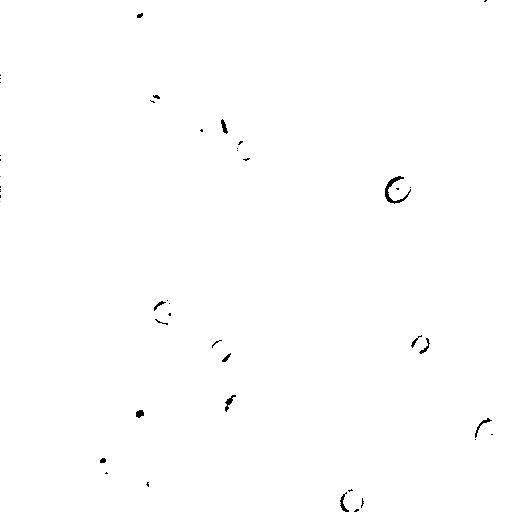micro-algae: (283, 87, 418, 215), (347, 1, 423, 41), (117, 393, 161, 433), (83, 448, 125, 487), (472, 413, 506, 451), (135, 461, 167, 500), (225, 106, 259, 141), (191, 112, 222, 150), (323, 0, 365, 27), (120, 1, 153, 31), (381, 175, 413, 205), (223, 391, 250, 423), (152, 297, 182, 325), (233, 136, 261, 163), (407, 332, 435, 357), (339, 487, 366, 512), (209, 338, 233, 364)
